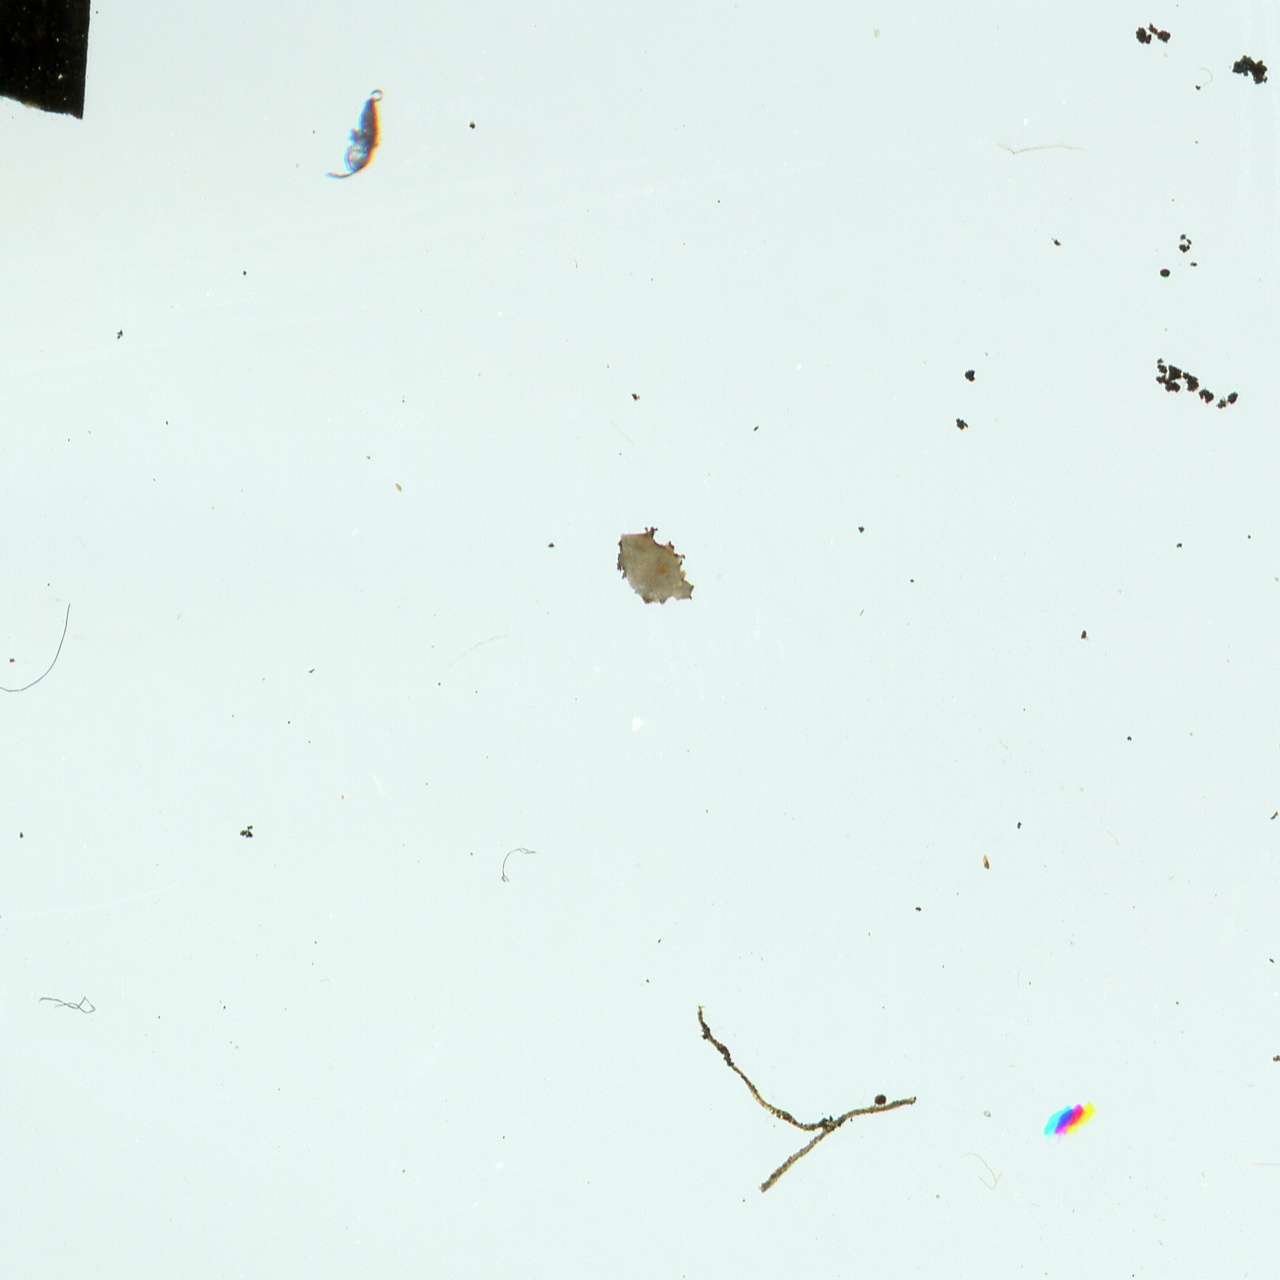arthropod: (319, 93, 391, 189)
